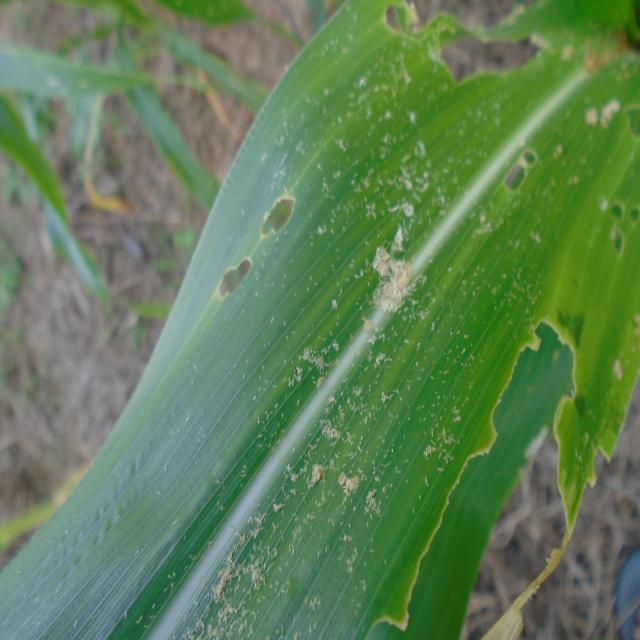fall-armyworm-egg: (364, 235, 415, 319)
fall-armyworm-frass: (213, 558, 297, 640), (558, 12, 640, 80), (587, 99, 621, 149), (338, 462, 364, 501), (311, 460, 326, 490)
fall-armyworm-larval-damage: (512, 282, 582, 488)
